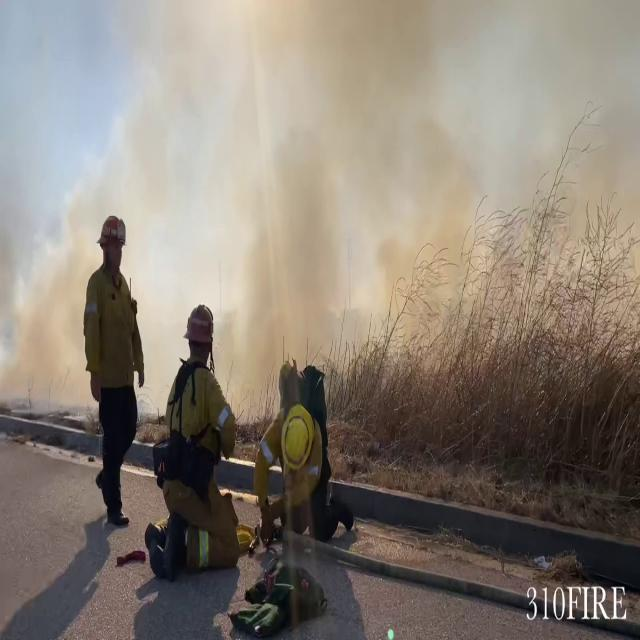Smoke: (13, 0, 640, 407)
